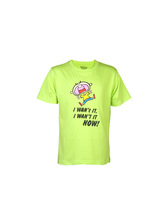clothoes: (36, 55, 131, 167)
